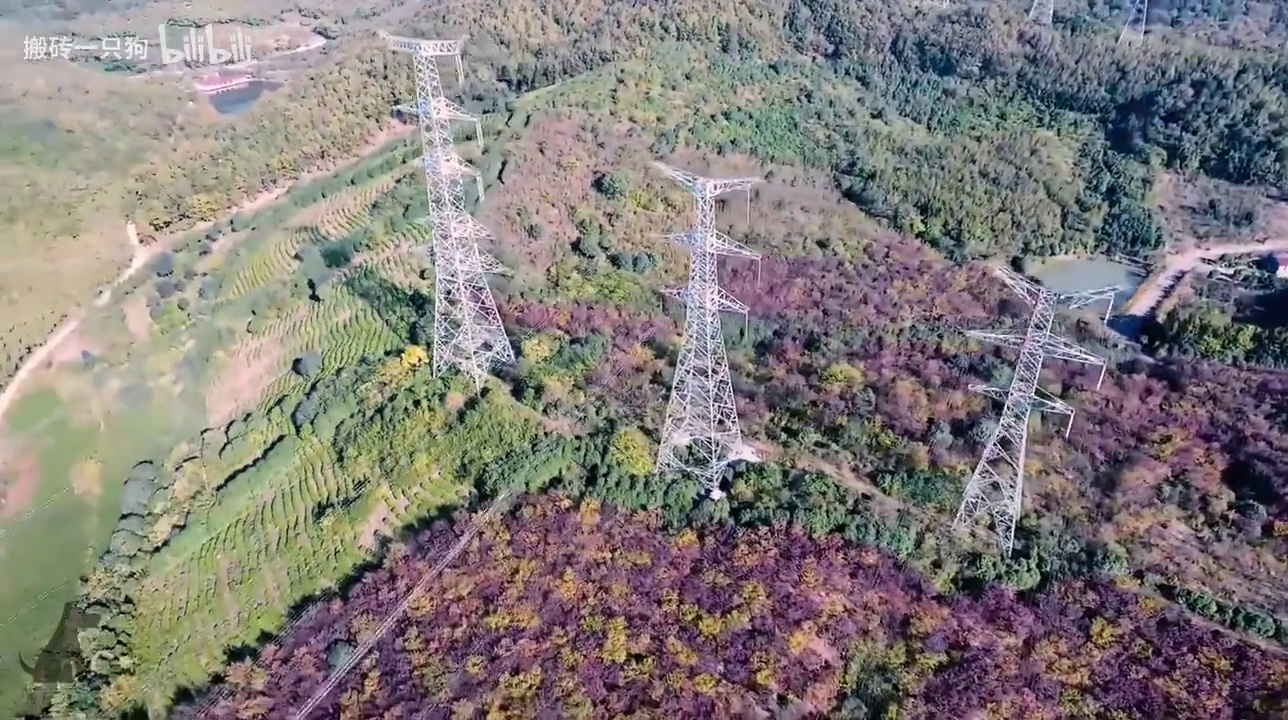tower_body: (363, 15, 531, 408), (942, 248, 1133, 570), (641, 154, 771, 493)
tower_foot: (426, 304, 520, 401), (654, 400, 750, 486), (948, 481, 1033, 558)
tower_head: (985, 261, 1126, 316), (648, 160, 766, 207), (374, 22, 477, 66)
